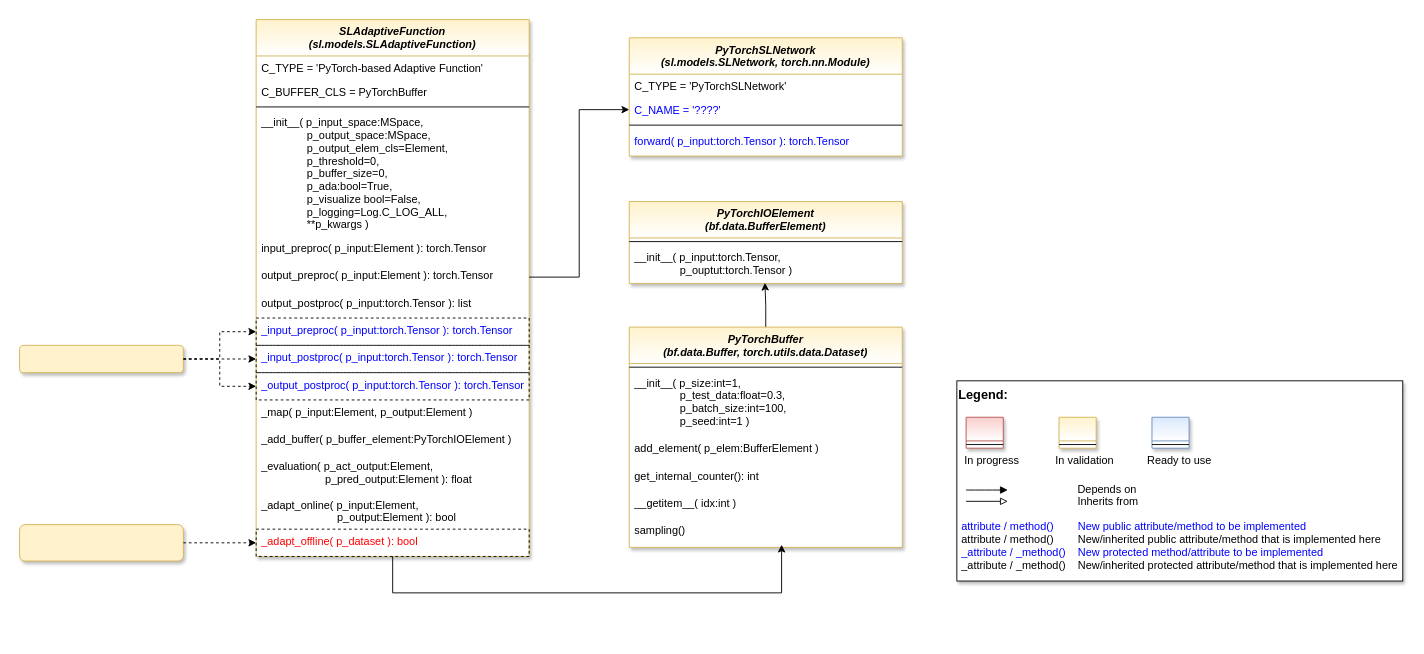
Image size: 1424x654. Some labels were removed from this diagram. Here are the shapes that lost their labels. From the top down, the centre of each, then its label:
At (102,360): "These methods are optional".
At (102,543): "Depends on the data type of p_dataset".
